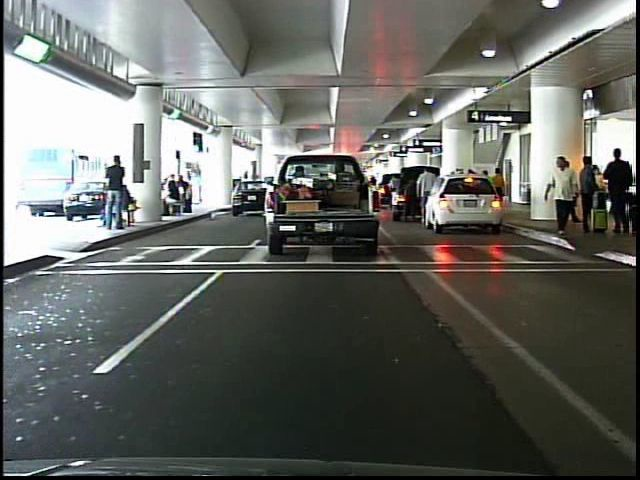person: (543, 146, 579, 239), (602, 146, 631, 236), (576, 152, 600, 240), (109, 153, 131, 233), (414, 161, 439, 229), (492, 163, 509, 217), (191, 168, 203, 210)
